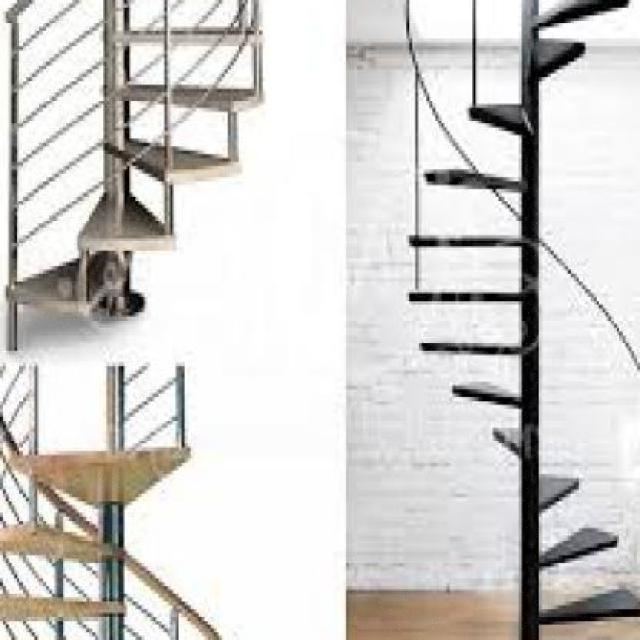stair: (397, 0, 640, 637), (2, 0, 308, 340)
